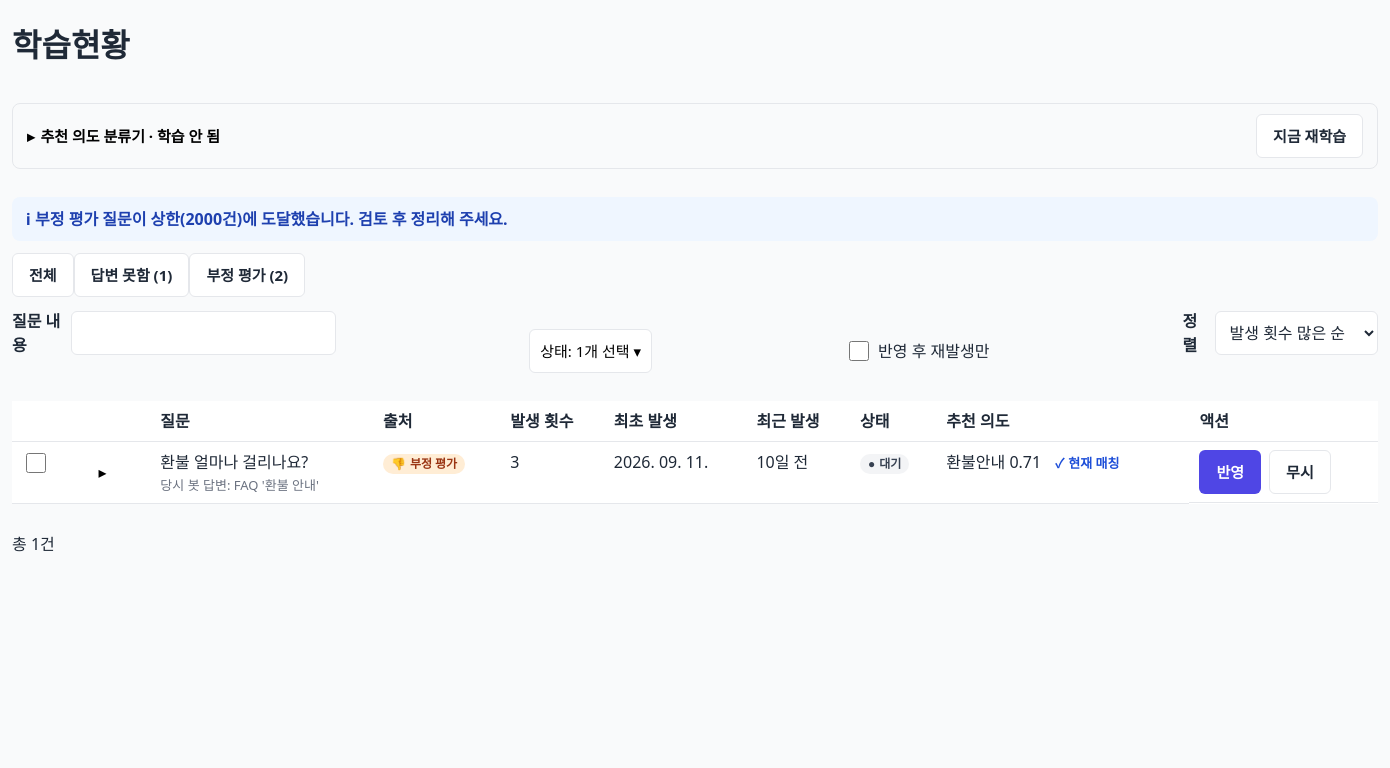
Test case: LearningQueuePage — 부정 평가 소스 확장(No.44) › 직접 수정 완료가 409 ALREADY_RESOLVED로 실패하면 목록 재조회와 함께 요약(배지)도 갱신한다(R1)
Expected: the text "환불 얼마나 걸리나요?" is shown, [160,451,308,473]
What coordinates should you click on to do the following:
click the button named "상세 펼치기"
I would click on:
 (103, 472)
Its box is [81,450,125,494].
(page scrolled)
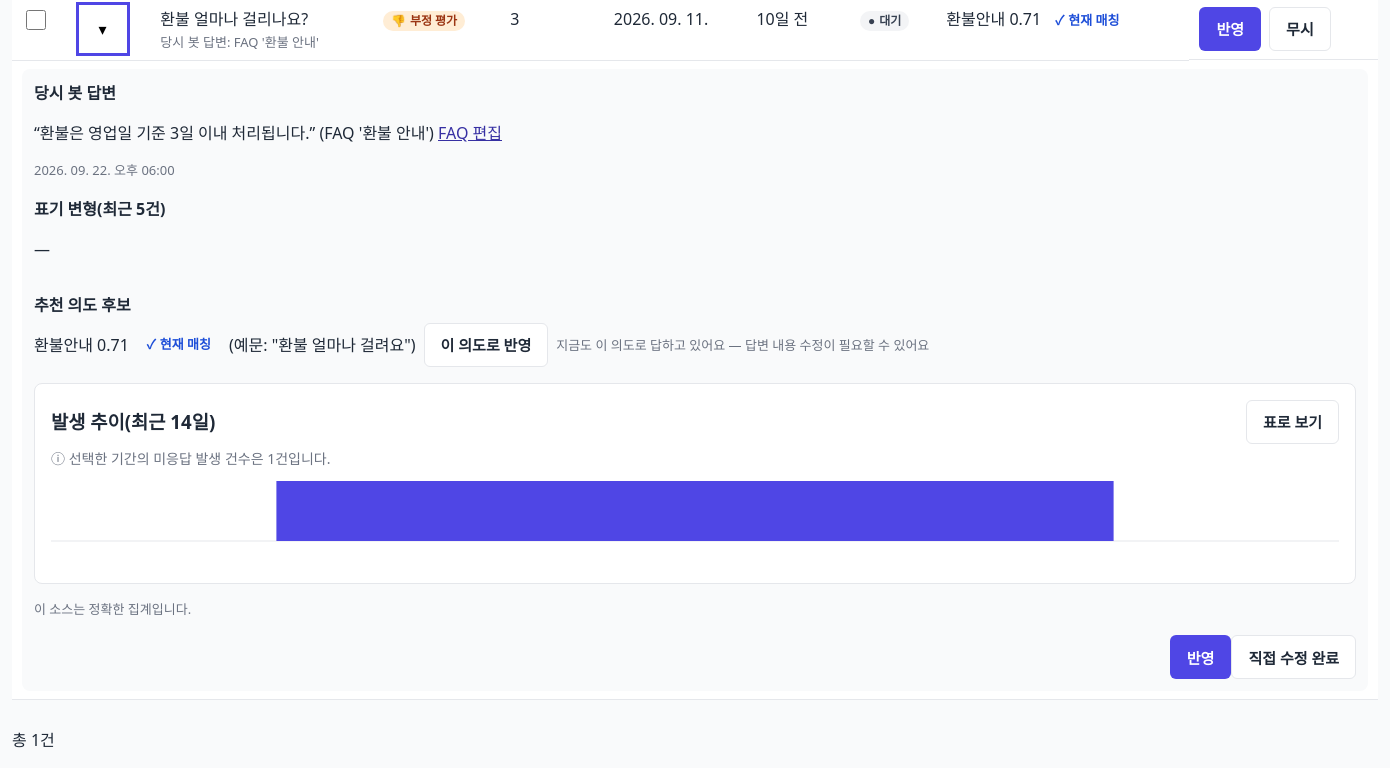
What coordinates should you click on to do the following:
click the button "직접 수정 완료"
I would click on:
 (1294, 657)
Its box is [1231,635,1356,679].
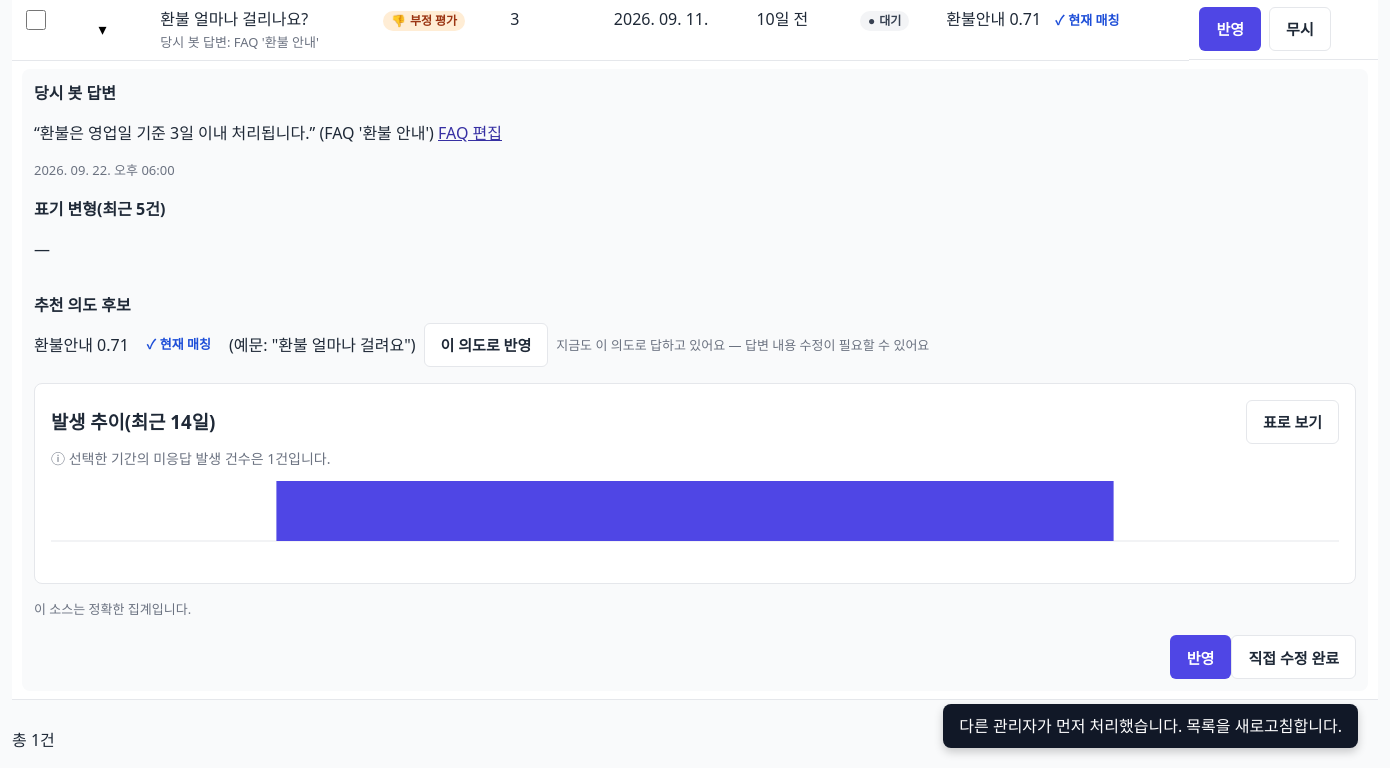
Expected: the text "다른 관리자가 먼저 처리했습니다. 목록을 새로고침합니다." is shown, [943,704,1358,748]
